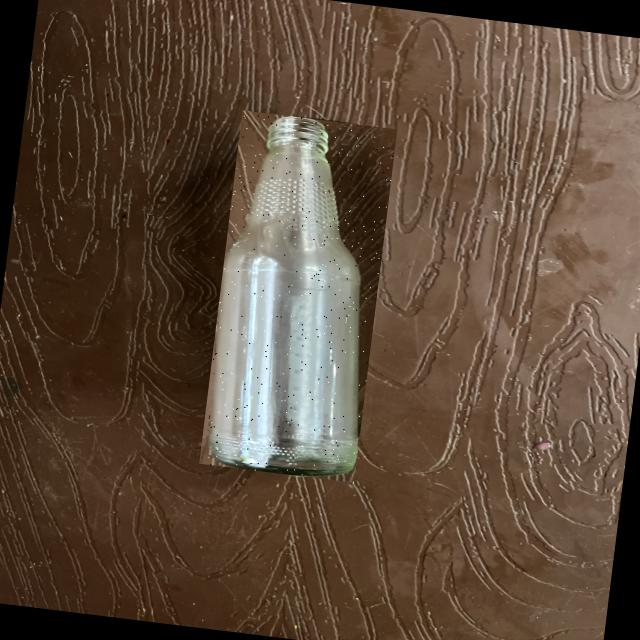Glass_Bottle: (209, 117, 359, 475)
